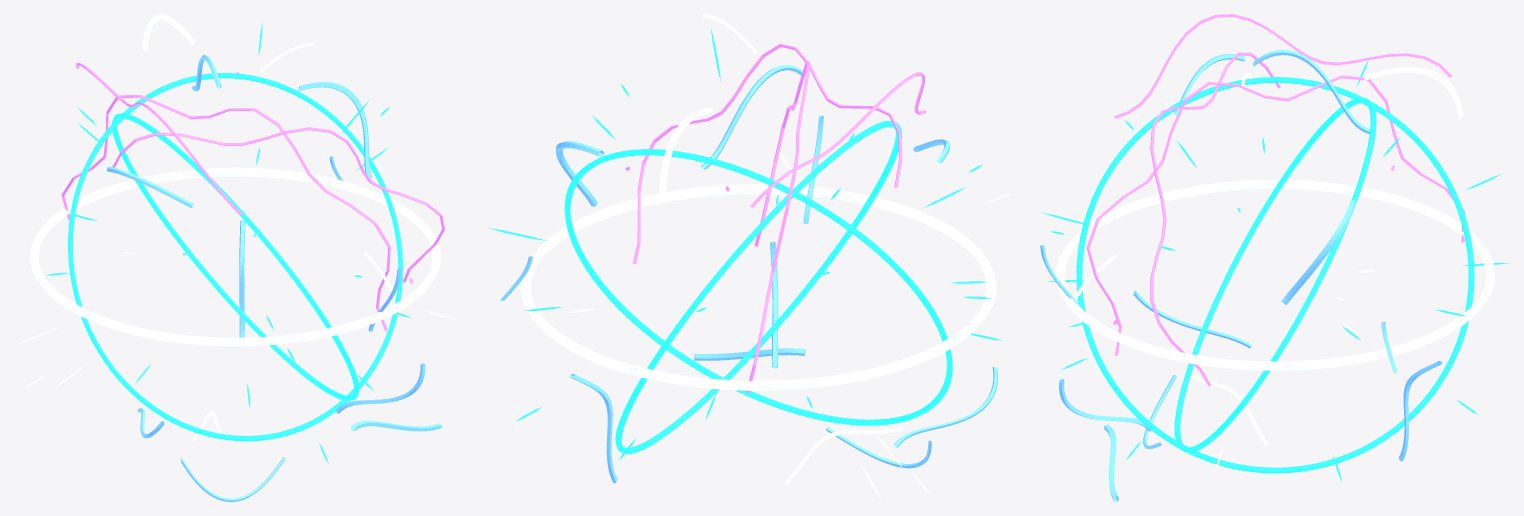
File: warp_bubble_impact.glb
3 views of the same model, side by side, from view 1: azimuth 30°, elevation 25°; view 2: azimuth 150°, elevation 25°; view 3: azimuth 270°, elevation 25° (orthographic). The views are drawn at different scales.
Parts seen in each view (by area): view 1: warp_bubble_impact; view 2: warp_bubble_impact; view 3: warp_bubble_impact.
Boxes of the visible parts, <box> form: warp_bubble_impact: <box>16,14,455,501</box>; warp_bubble_impact: <box>488,14,1010,500</box>; warp_bubble_impact: <box>1040,14,1508,501</box>.
Bounding box in the file's own units: 4.65 × 4.49 × 4.52.
